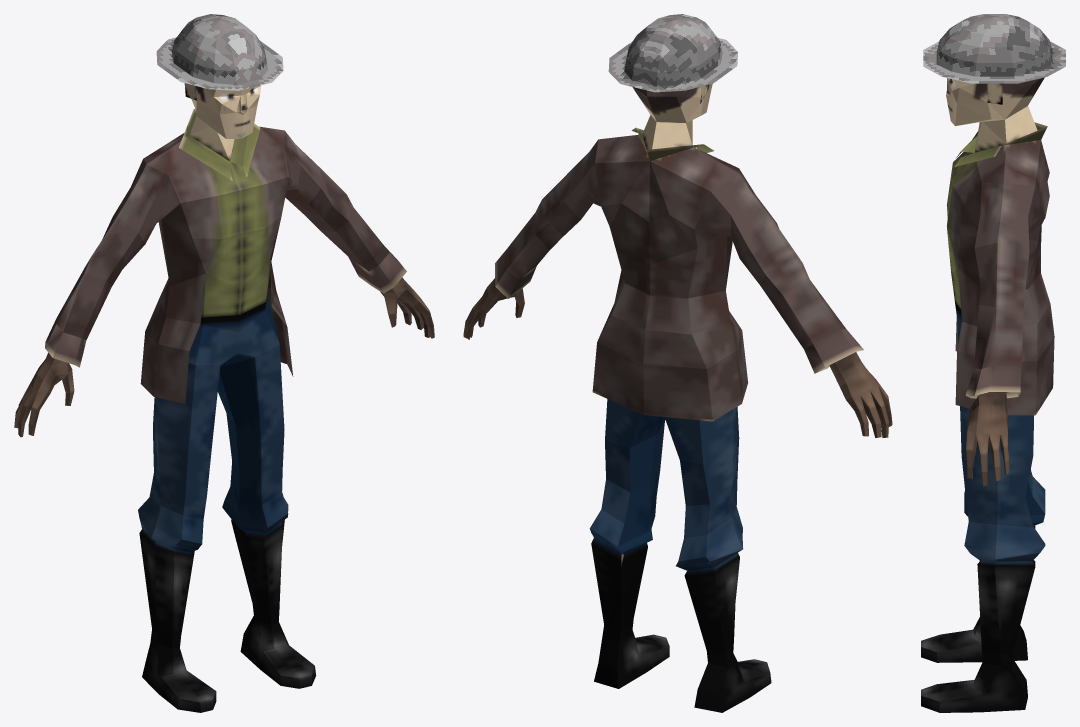
The model's file is man.obj.
The picture shows the model from 3 angles, left to right: view 1: azimuth 30°, elevation 25°; view 2: azimuth 150°, elevation 25°; view 3: azimuth 270°, elevation 25°; orthographic projection. The views are drawn at different scales.
Visible parts, largest first — view 1: body, hat, head; view 2: body, hat, head; view 3: body, hat, head.
Part boxes in pixels (box(x1,y1,x2,y2)): body: box(14, 109, 434, 712); hat: box(156, 14, 283, 90); head: box(184, 83, 261, 138); body: box(463, 115, 892, 712); hat: box(608, 14, 737, 92); head: box(632, 83, 712, 122); body: box(921, 106, 1054, 712); hat: box(923, 14, 1065, 83); head: box(946, 77, 1044, 125).
Size of the model in its own units: 3.32 by 5.05 by 1.
